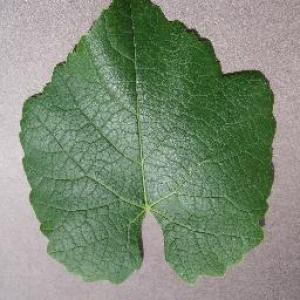Folha: (18, 0, 276, 285)
